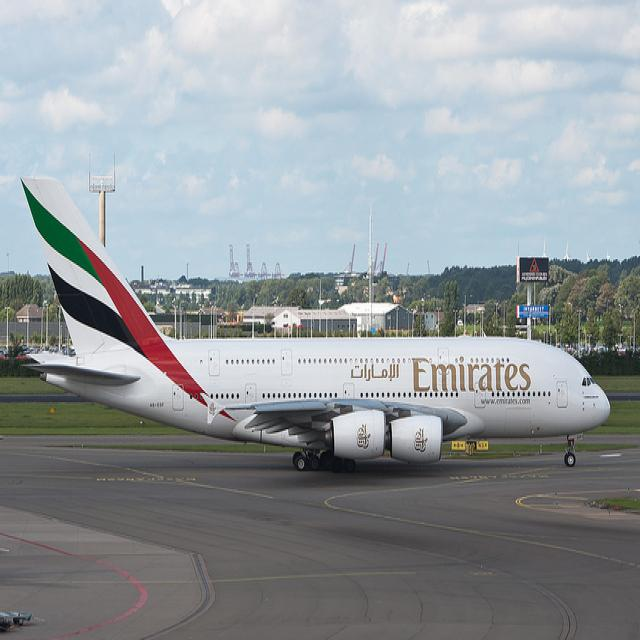airplane: (16, 175, 612, 475)
